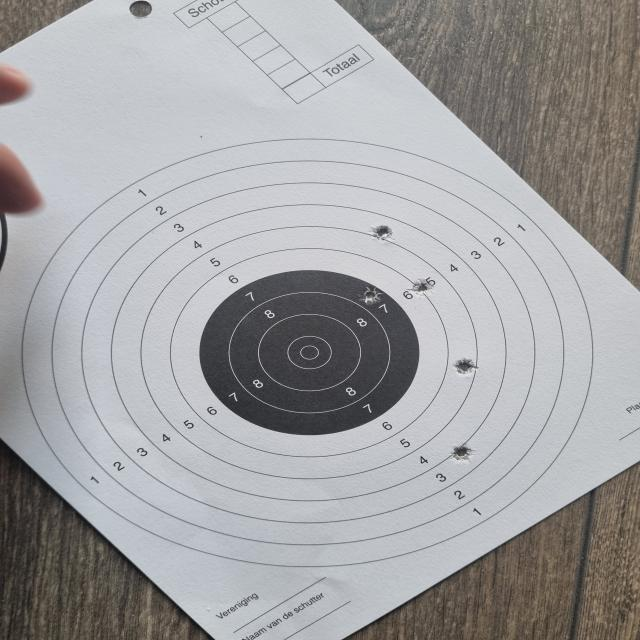4: (452, 444, 474, 460)
5: (454, 358, 478, 374), (371, 226, 395, 240)
6: (407, 279, 434, 296)
7: (358, 287, 384, 303)
Target: (21, 138, 594, 567)
black_contour: (200, 270, 420, 435)
